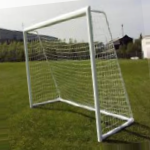goals: (21, 5, 134, 142)
